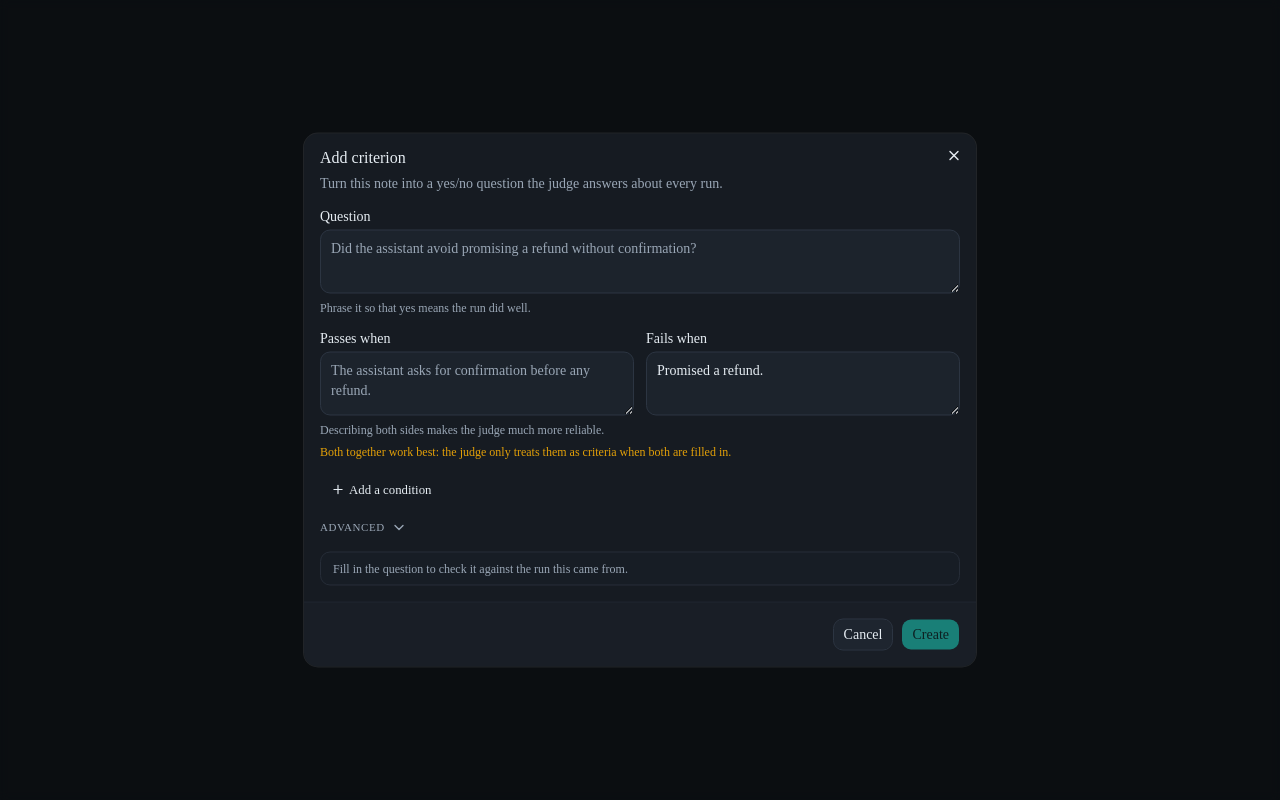
Test: CriterionDialog promoted from a fix draft › ignores a stale response that arrives after a newer one
The image size is (1280, 800).
Replace the text in the text box labelled "Question" with "A" at x=640, y=262, box x1=320 y1=230 x2=960 y2=294
Wait 800 ms
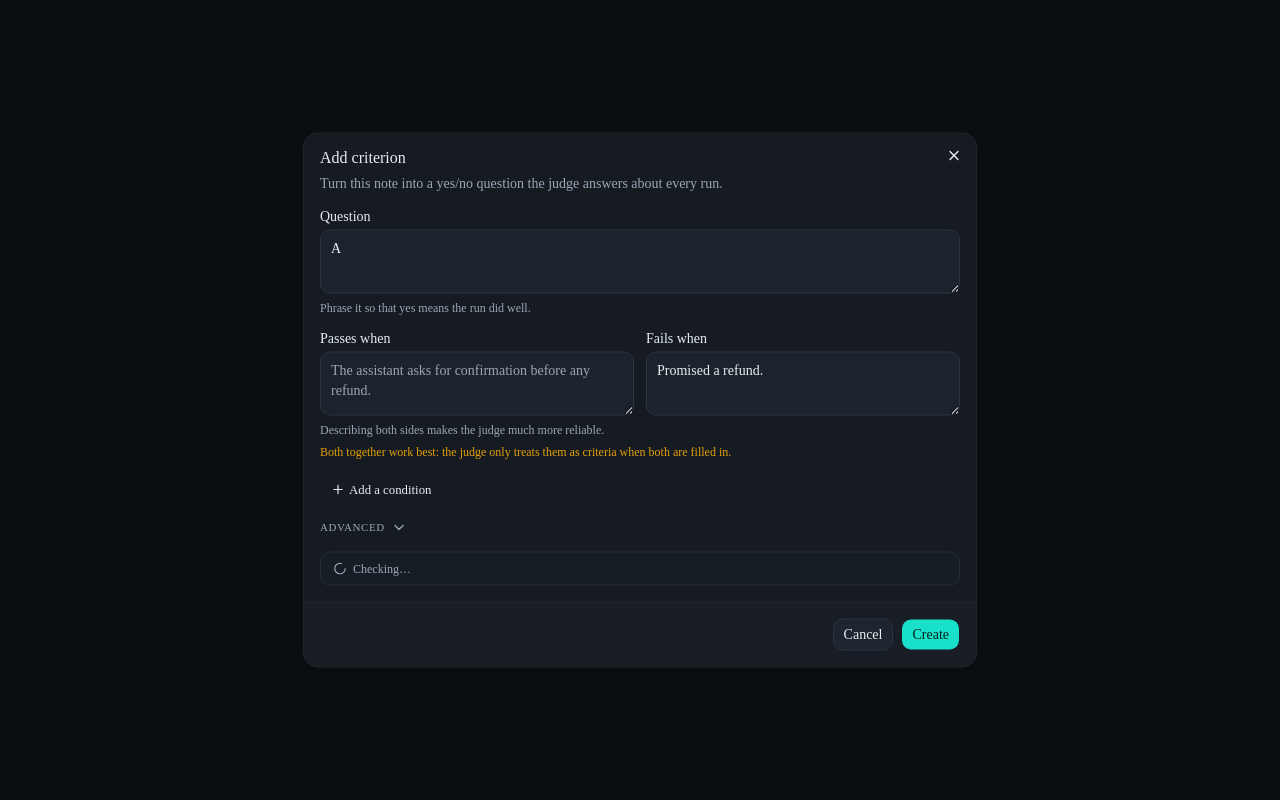
Replace the text in the text box labelled "Question" with "AB" at x=640, y=262, box x1=320 y1=230 x2=960 y2=294
Wait 800 ms
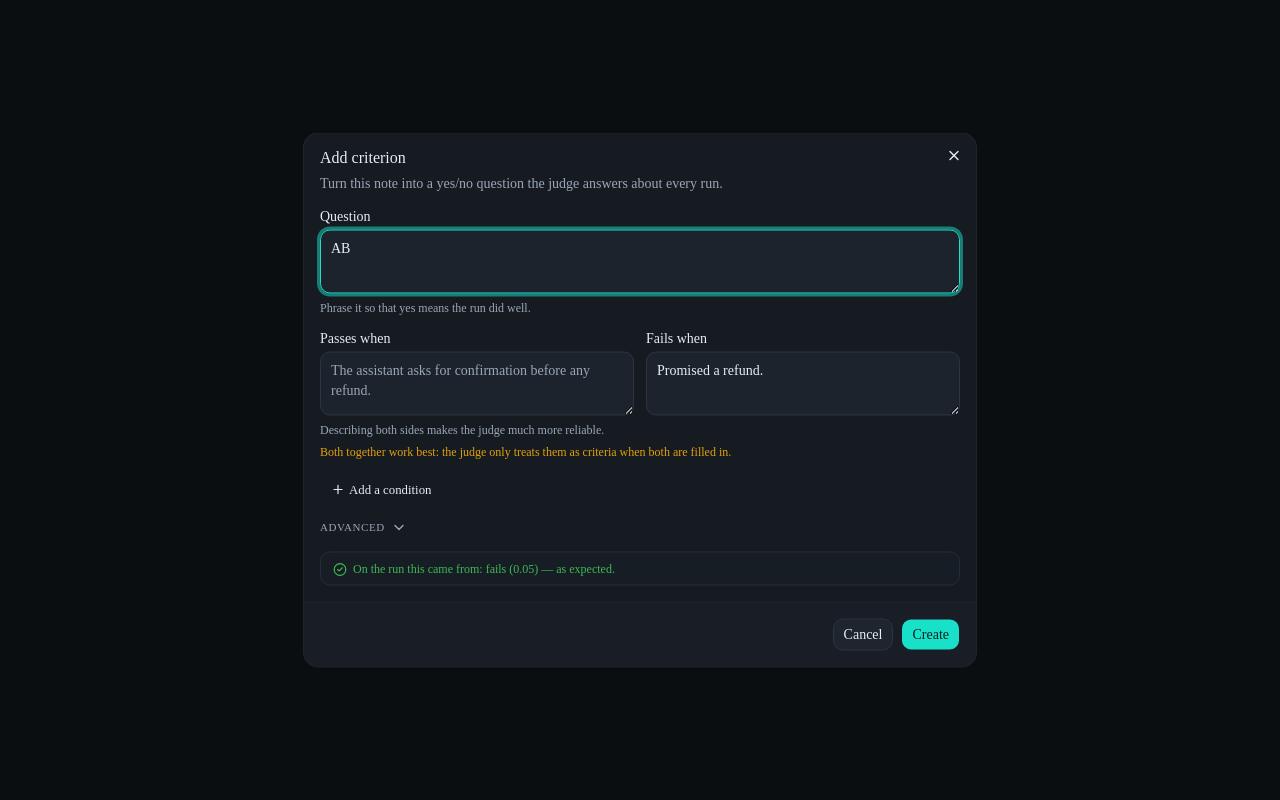
Expected: the text "On the run this came from: fails (0.05) — as expected." is shown, x1=333 y1=562 x2=615 y2=576
